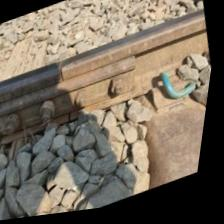person: (36, 46, 89, 95), (58, 103, 85, 132)
